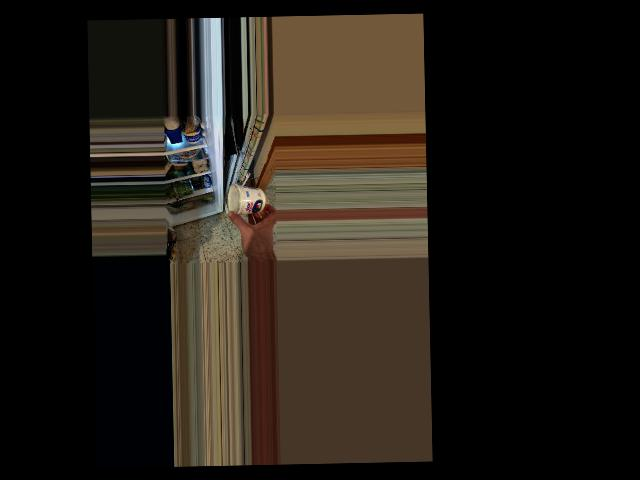cotage: (225, 183, 269, 217)
